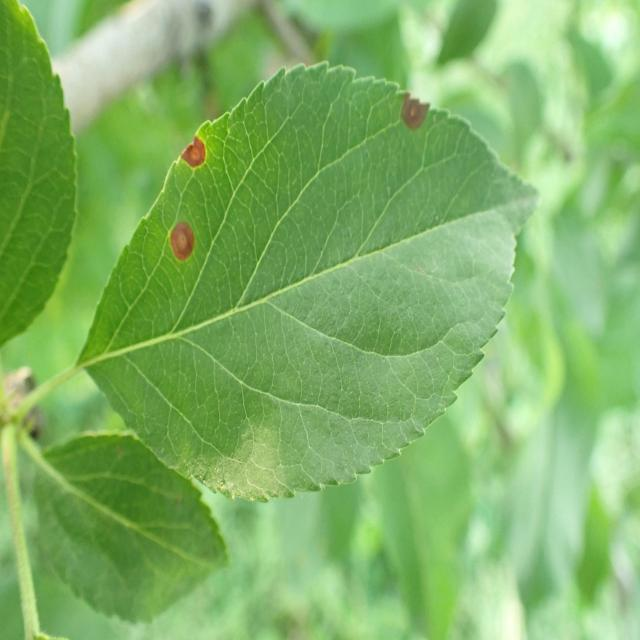Black Rot: (398, 73, 443, 174), (163, 196, 200, 301), (171, 126, 218, 173)
